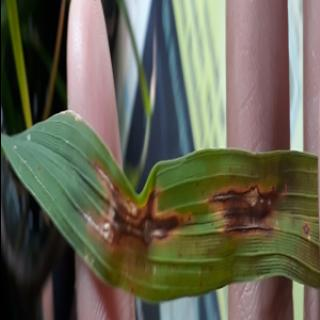Blast: (88, 190, 186, 258), (197, 172, 290, 242)
